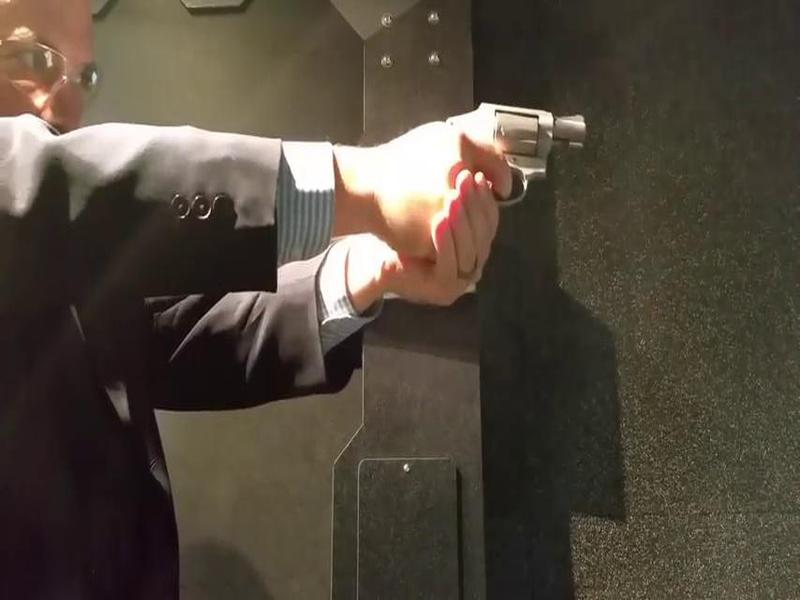Revolver: (446, 79, 607, 218)
